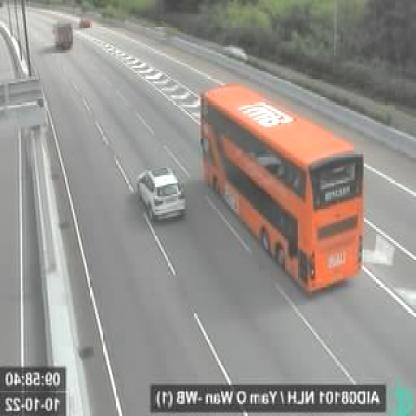Bus: (200, 87, 363, 296)
Car: (138, 167, 186, 221)
Truck: (53, 19, 73, 49)
